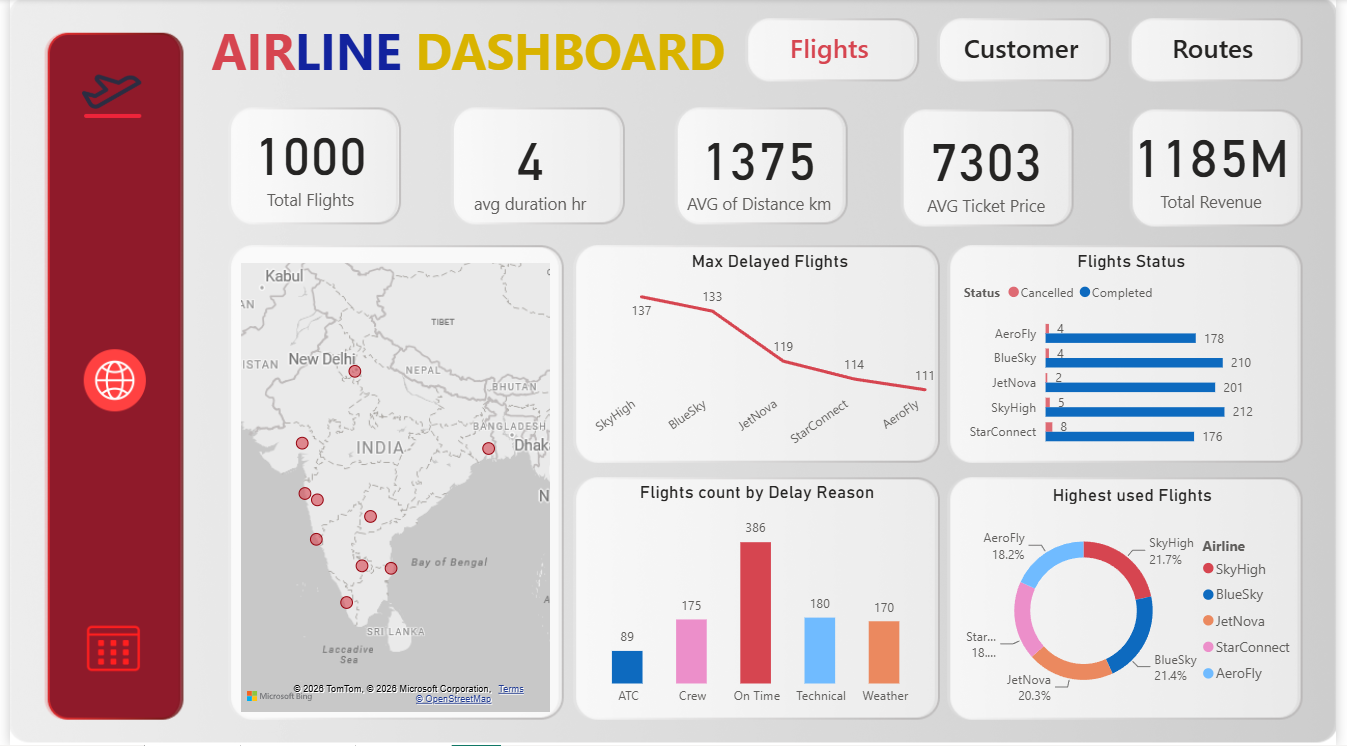

Layout of this report page (visuals, bound fields, positions):
{"tool":"powerbi","page":{"name":"Flights","canvas":[1280,720],"ordinal":0},"visuals":[{"type":"textbox","box":[189.4,12.1,513.9,76],"z":0},{"type":"card","fields":{"Values":["CountNonNull(Airline.Flight_ID)"]},"box":[211.5,100.1,162.2,114.2],"z":1000},{"type":"card","fields":{"Values":["Flight duration hr.avg duration hr"]},"box":[430.1,108.6,149.5,105.8],"z":2000},{"type":"card","fields":{"Values":["Avg(Airline.Distance_km)"]},"box":[631.7,108.6,186.1,105.8],"z":3000},{"type":"donutChart","title":"Highest used Flights","fields":{"Category":["Airline.Airline"],"Y":["Sum(Airline.flights count)"]},"box":[916.5,468.1,332.8,224.2],"z":4000},{"type":"lineChart","title":"Max Delayed Flights","fields":{"Category":["Airline.Airline"],"Y":["Sum(Airline.Max Delayed)"]},"box":[551.3,242.5,364.3,200.3],"z":5000},{"type":"map","fields":{"Y":["Airline_Map.Latitude"],"X":["Airline_Map.Longitude"]},"box":[218.4,249.7,307.6,442.8],"z":6000},{"type":"image","box":[43,593.2,112.9,66.3],"z":7000},{"type":"image","box":[66.3,302.9,69.9,130.8],"z":8000},{"type":"image","box":[62.5,38.7,72.9,105.7],"z":9000},{"type":"card","fields":{"Values":["Avg(Airline.Ticket_Price)"]},"box":[871.4,111.9,146.3,101.8],"z":10000},{"type":"card","fields":{"Values":["Sum(Airline.Revenue)"]},"box":[1077.5,108.1,167.9,100.5],"z":11000},{"type":"clusteredBarChart","title":"Flights Status","fields":{"Category":["Airline.Airline"],"Y":["Sum(Airline.flights count)"],"Series":["Airline.Status"]},"box":[915.9,243,333.3,199.7],"z":12000},{"type":"clusteredColumnChart","title":"Flights count by Delay Reason","fields":{"Category":["Airline.edit delay reason"],"Y":["Sum(Airline.flights count)"]},"box":[550.8,465.6,339.7,225.2],"z":13000},{"type":"pageNavigator","box":[703.4,15.7,546.5,61.5],"z":14000}]}

Visuals, with their boxes in screenshot pixels (x1, y1, x2, y2), scaled from the page's 1280x720 canvas onto the 1347x746 screenshot:
textbox: 199/13/740/91
card - CountNonNull(Airline.Flight_ID): 223/104/393/222
card - Flight duration hr.avg duration hr: 453/113/610/222
card - Avg(Airline.Distance_km): 665/113/861/222
"Highest used Flights" donutChart: 964/485/1315/717
"Max Delayed Flights" lineChart: 580/251/964/459
map - Airline_Map.Latitude x Airline_Map.Longitude: 230/259/554/718
image: 45/615/164/683
image: 70/314/143/449
image: 66/40/142/150
card - Avg(Airline.Ticket_Price): 917/116/1071/221
card - Sum(Airline.Revenue): 1134/112/1311/216
"Flights Status" clusteredBarChart: 964/252/1315/459
"Flights count by Delay Reason" clusteredColumnChart: 580/482/937/716
pageNavigator: 740/16/1315/80
